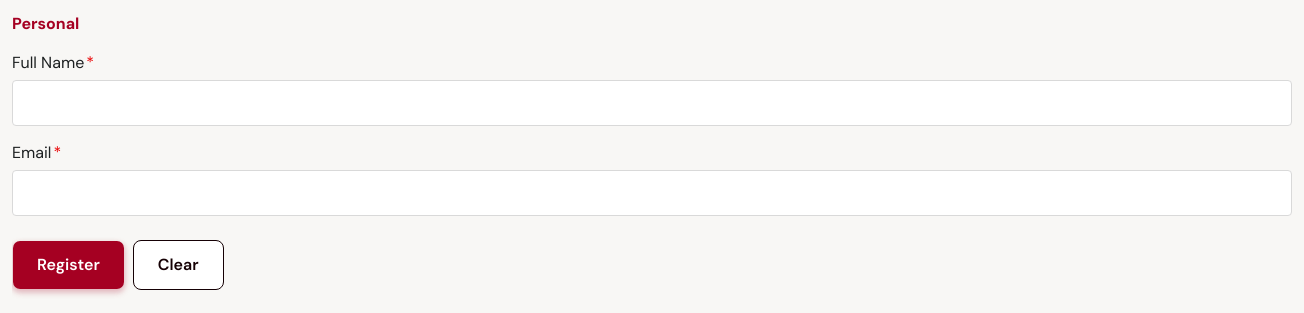
it: FormEngine › resets the form when reset button is clicked
This screenshot has width=1304, height=313.
Type "Alice" into the field labelled "Full Name*" at (652, 103), box [12,80,1292,126]
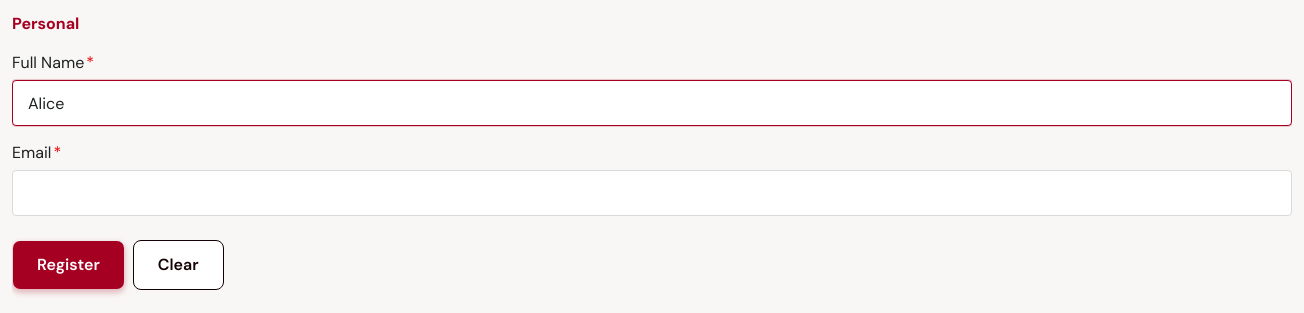
Click the button "Clear" at (178, 265), box [133,240,224,290]
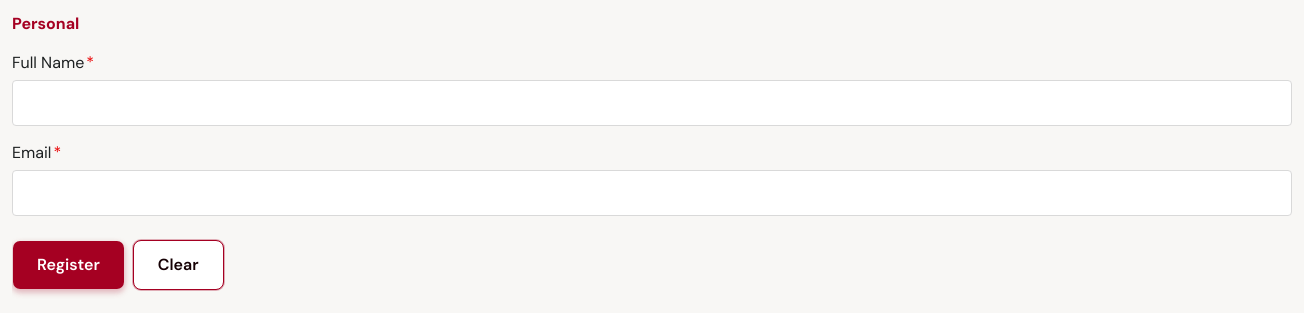
Result: the field labelled "Full Name*" is empty at [12,80,1292,126]
